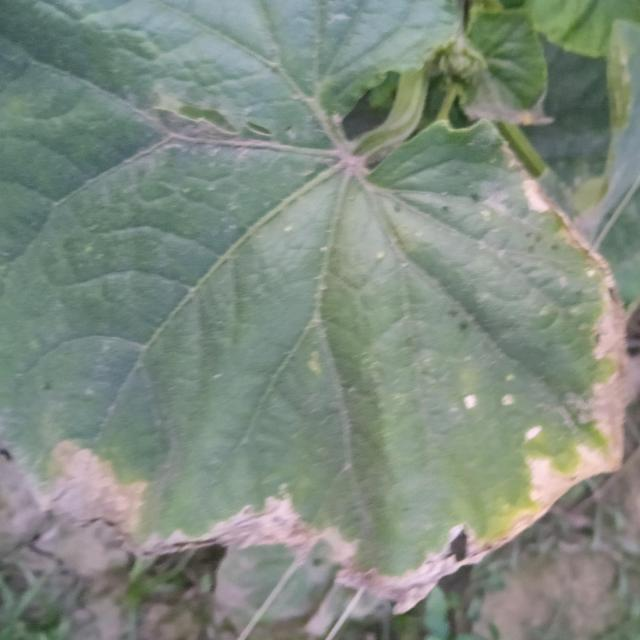cucumber_gummy: (0, 0, 640, 617)
